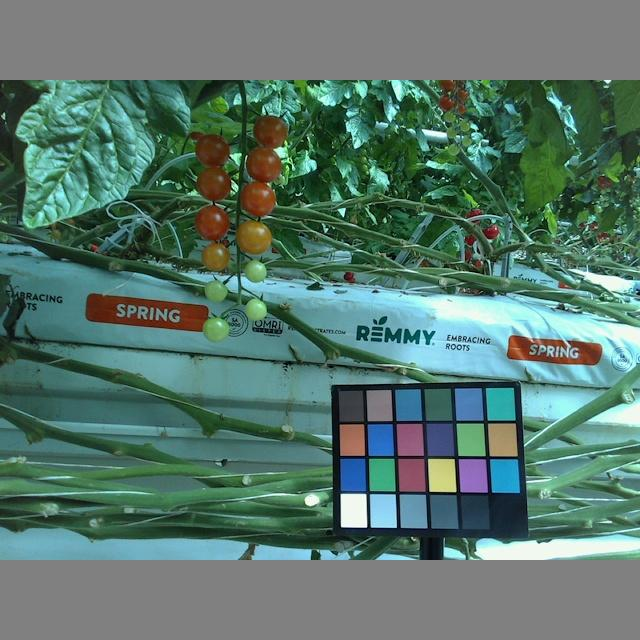green: (200, 278, 230, 302), (242, 300, 266, 323), (204, 319, 228, 340), (245, 261, 265, 281)
pink: (239, 183, 276, 216), (193, 133, 230, 166), (238, 221, 271, 257), (252, 117, 287, 149), (196, 206, 228, 239), (245, 149, 280, 178), (195, 173, 229, 199), (201, 243, 229, 268)
